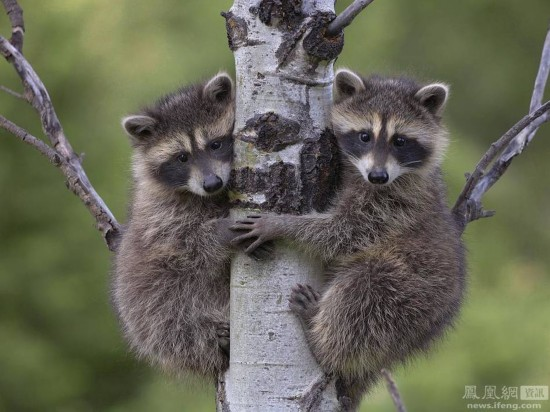raccoon: (235, 70, 475, 412), (94, 66, 279, 384)
